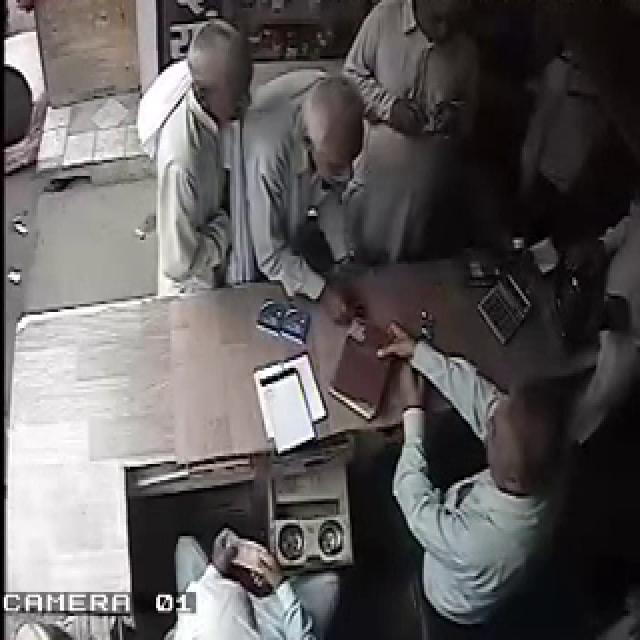shoplifting: (187, 11, 577, 602)
